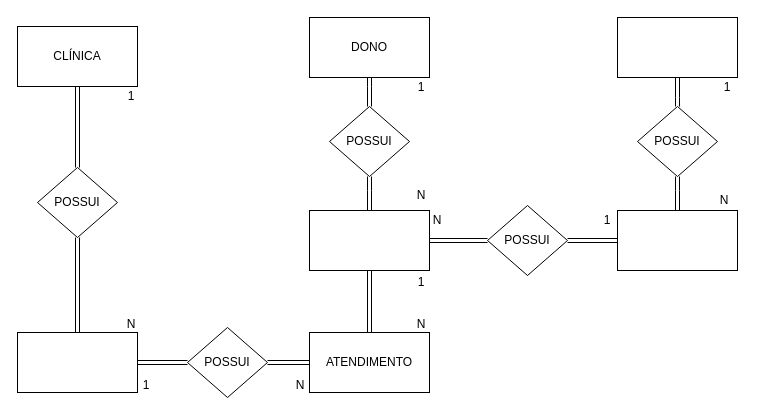
The diagram is 765 pixels wide and 415 high, and some of its shapes have lost their labels. The shapes that lost their labels are listed below. From the top down, each one's centre as x and y in pixels, then its label:
the point at 677,47: TIPO_PET
the point at 369,240: PET
the point at 677,240: RAÇA
the point at 77,362: VETERINÁRIO
